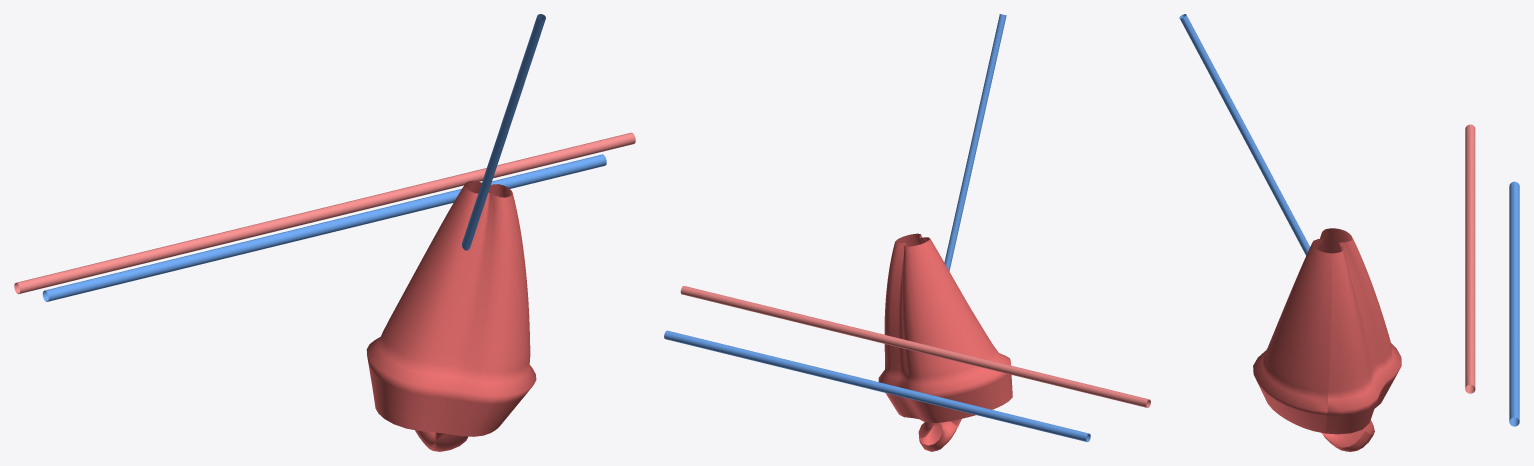
The model's file is cardiovascular.glb.
The picture shows the model from 3 angles, left to right: view 1: azimuth 30°, elevation 25°; view 2: azimuth 150°, elevation 25°; view 3: azimuth 270°, elevation 25°; orthographic projection. The views are drawn at different scales.
Visible parts, largest first — view 1: Mesh_Camelid_Cor, Mesh_Camelid_Aorta, Mesh_Camelid_VenaCava, Mesh_Camelid_VenaJugularis; view 2: Mesh_Camelid_Cor, Mesh_Camelid_Aorta, Mesh_Camelid_VenaCava, Mesh_Camelid_VenaJugularis; view 3: Mesh_Camelid_Cor, Mesh_Camelid_Aorta, Mesh_Camelid_VenaCava, Mesh_Camelid_VenaJugularis.
Boxes of the visible parts, x1=… form: Mesh_Camelid_Cor: x1=366, y1=180, x2=536, y2=451; Mesh_Camelid_Aorta: x1=14, y1=132, x2=635, y2=294; Mesh_Camelid_VenaCava: x1=42, y1=154, x2=606, y2=301; Mesh_Camelid_VenaJugularis: x1=462, y1=14, x2=545, y2=250; Mesh_Camelid_Cor: x1=878, y1=233, x2=1012, y2=451; Mesh_Camelid_Aorta: x1=680, y1=286, x2=1150, y2=407; Mesh_Camelid_VenaCava: x1=664, y1=330, x2=1090, y2=442; Mesh_Camelid_VenaJugularis: x1=944, y1=14, x2=1006, y2=271; Mesh_Camelid_Cor: x1=1253, y1=228, x2=1401, y2=451; Mesh_Camelid_Aorta: x1=1465, y1=124, x2=1475, y2=393; Mesh_Camelid_VenaCava: x1=1509, y1=181, x2=1519, y2=426; Mesh_Camelid_VenaJugularis: x1=1179, y1=14, x2=1309, y2=255.
Bounding box in the file's own units: 0.975 × 0.7639 × 0.5393.
